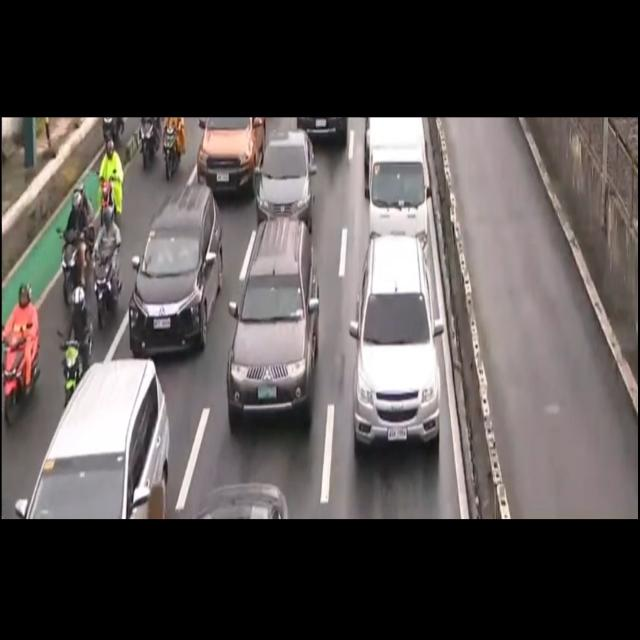Motorcycle: (0, 281, 45, 421), (97, 195, 128, 328), (59, 178, 92, 301), (61, 289, 97, 397), (96, 130, 129, 222), (162, 114, 188, 184)
SUV: (18, 358, 170, 522), (348, 234, 440, 450), (222, 224, 321, 422), (129, 184, 222, 352), (193, 120, 267, 204)
Sedan: (252, 135, 316, 222)
Truck: (366, 117, 429, 270)
